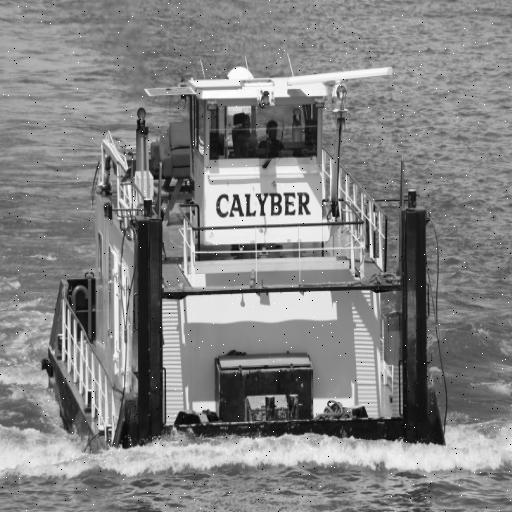tugboat: (40, 50, 454, 480)
